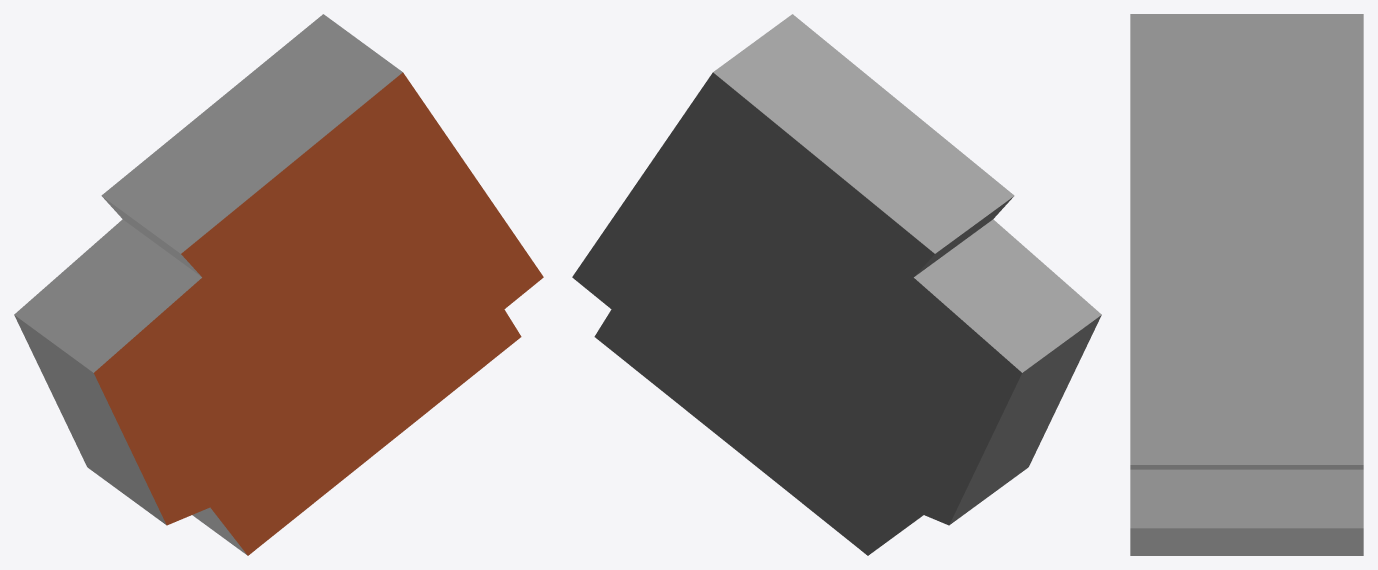
The model's file is construction_0627_assumed_A_Casa_h6m.obj.
3 views of the same model, side by side, from view 1: azimuth 30°, elevation 25°; view 2: azimuth 150°, elevation 25°; view 3: azimuth 270°, elevation 25° (orthographic). The views are drawn at different scales.
Parts seen in each view (by area): view 1: construction_0627_assumed_A_Casa; view 2: construction_0627_assumed_A_Casa; view 3: construction_0627_assumed_A_Casa.
Part boxes in pixels (x1,y1,x2,y2): construction_0627_assumed_A_Casa: (14,14,543,555); construction_0627_assumed_A_Casa: (572,14,1101,555); construction_0627_assumed_A_Casa: (1130,14,1363,555).
Bounding box in the file's own units: 19.59 × 18.54 × 6.
